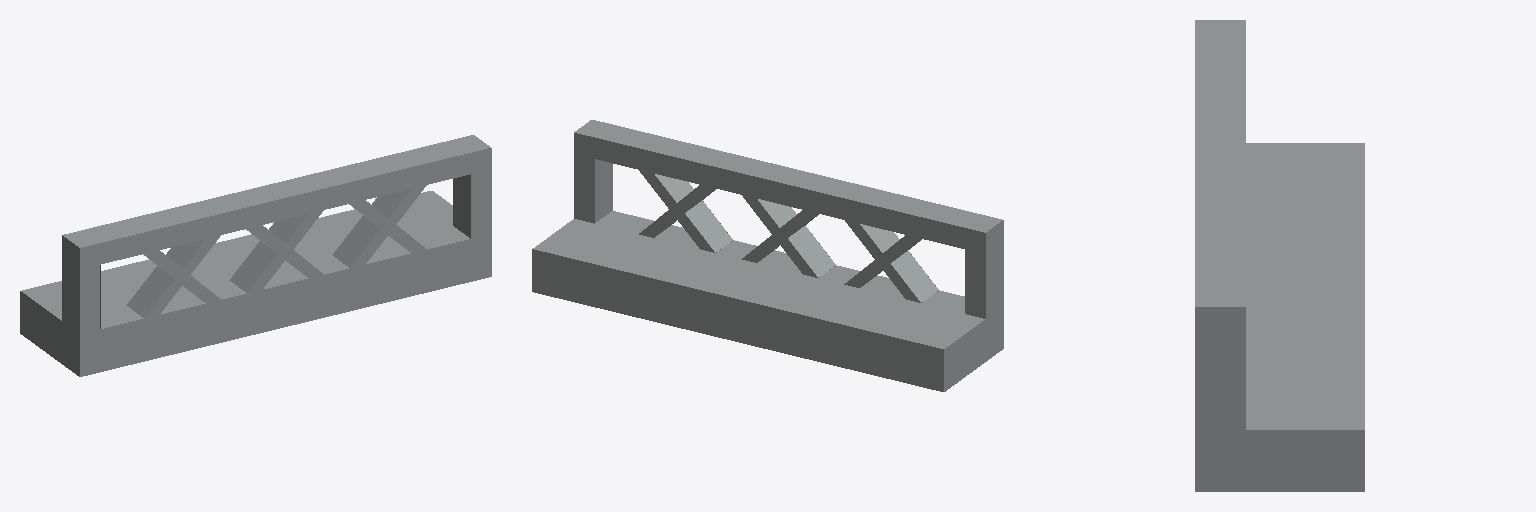
The robot description file, URDF, robot "3633__light_bluish_gray":
<?xml version="1.0"?>
<robot name="3633__light_bluish_gray">
  <link name="3633__light_bluish_gray">
    <inertial>
      <origin xyz="0.000000 -0.000649 -0.005612" rpy="0 0 0"/>
      <mass value="0.001978"/>
      <inertia ixx="2.200241078e-08" ixy="9.047287950e-25" ixz="-0.000000000e+00" iyy="1.816838761e-07" iyz="3.868409619e-09" izz="1.779600066e-07"/>
    </inertial>
    <visual>
      <geometry>
        <mesh filename="../meshes/visual/3633.obj" scale="1 1 1"/>
      </geometry>
      <material name="3633__light_bluish_gray_color">
        <color rgba="0.630 0.650 0.650 1.000"/>
      </material>
    </visual>
    <collision>
      <geometry>
        <mesh filename="../meshes/collision/3633_hull.obj" scale="1 1 1"/>
      </geometry>
    </collision>
  </link>
</robot>

--- Render facts (derived) ---
3 views of the same robot in one strip: view 1: azimuth 30°, elevation 25°; view 2: azimuth 150°, elevation 25°; view 3: azimuth 270°, elevation 25° (orthographic).
Model 3633__light_bluish_gray with 1 links and 0 joints (none), rooted at 3633__light_bluish_gray, posed every joint at zero.
Links seen in each view (by area): view 1: 3633__light_bluish_gray; view 2: 3633__light_bluish_gray; view 3: 3633__light_bluish_gray.
Boxes of the visible links, x1,y1,x2,y2 form: 3633__light_bluish_gray: (20, 135, 491, 376); 3633__light_bluish_gray: (532, 120, 1003, 391); 3633__light_bluish_gray: (1195, 20, 1364, 491).
Bounding box of the posed robot: 0.032 × 0.008 × 0.0096 m (x, y, z).
1 mesh visuals loaded from 1 distinct referenced files (1 OBJ).
